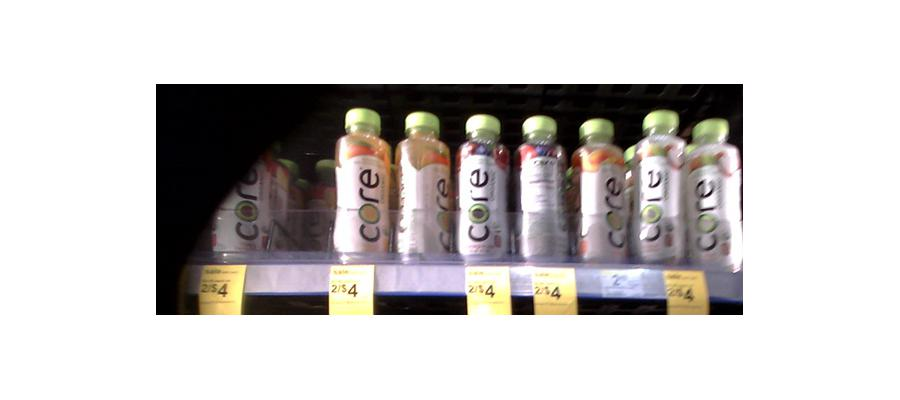bottle: (326, 109, 390, 265), (629, 111, 688, 267), (392, 115, 452, 266), (570, 121, 630, 268), (455, 115, 511, 269), (688, 119, 742, 272), (515, 117, 570, 267)
